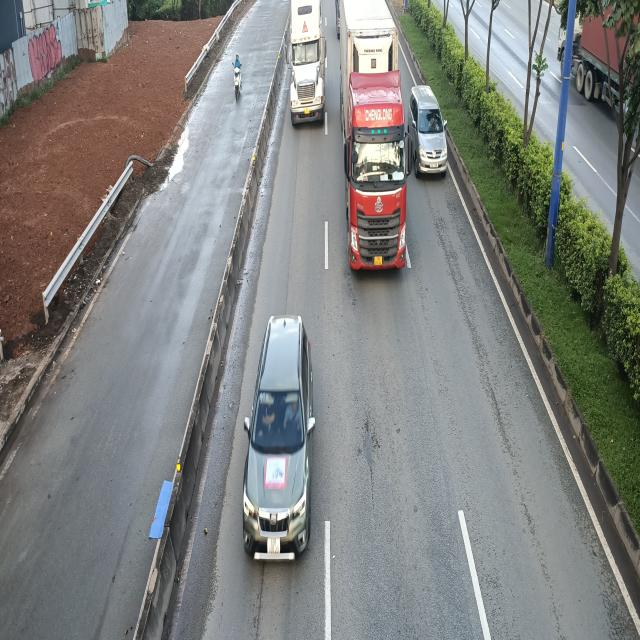car: (242, 316, 317, 562), (410, 83, 450, 179)
container: (339, 0, 409, 273), (283, 2, 326, 130)
